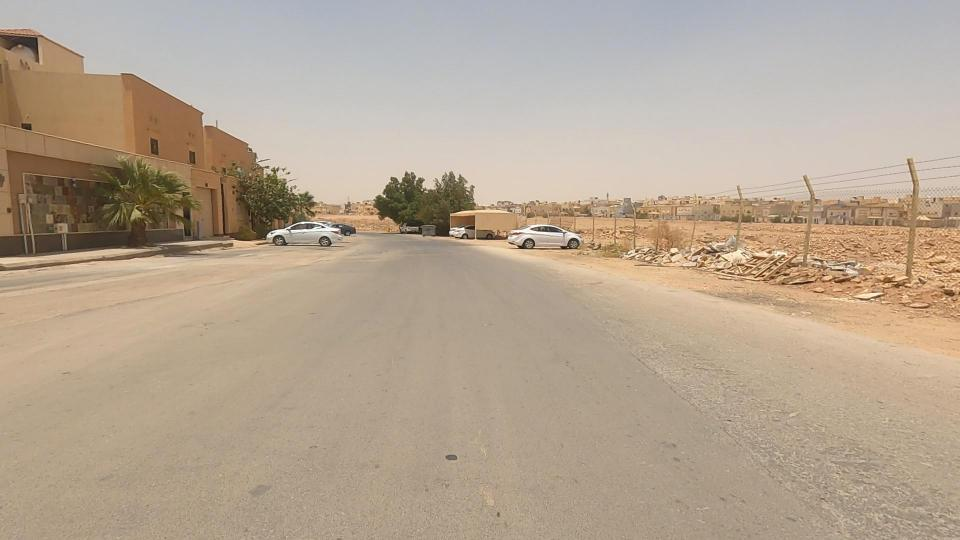GARBAGE: (651, 198, 848, 328), (754, 205, 927, 343), (571, 203, 735, 304)
